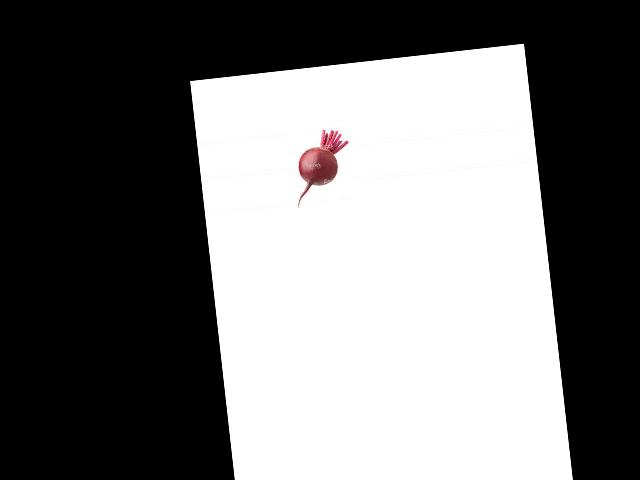beet: (289, 127, 355, 206)
